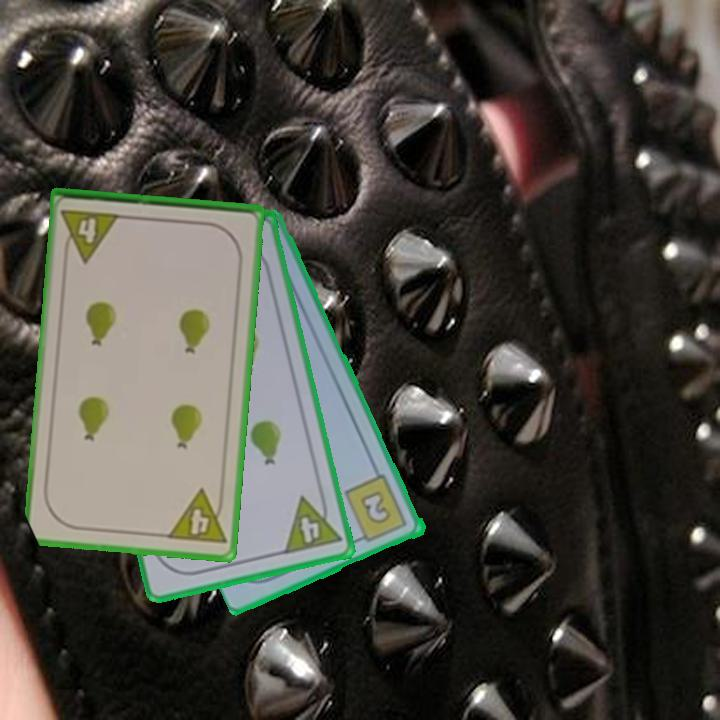2b: (341, 471, 411, 546)
4p: (280, 489, 344, 558), (163, 486, 229, 548), (58, 206, 123, 265)
